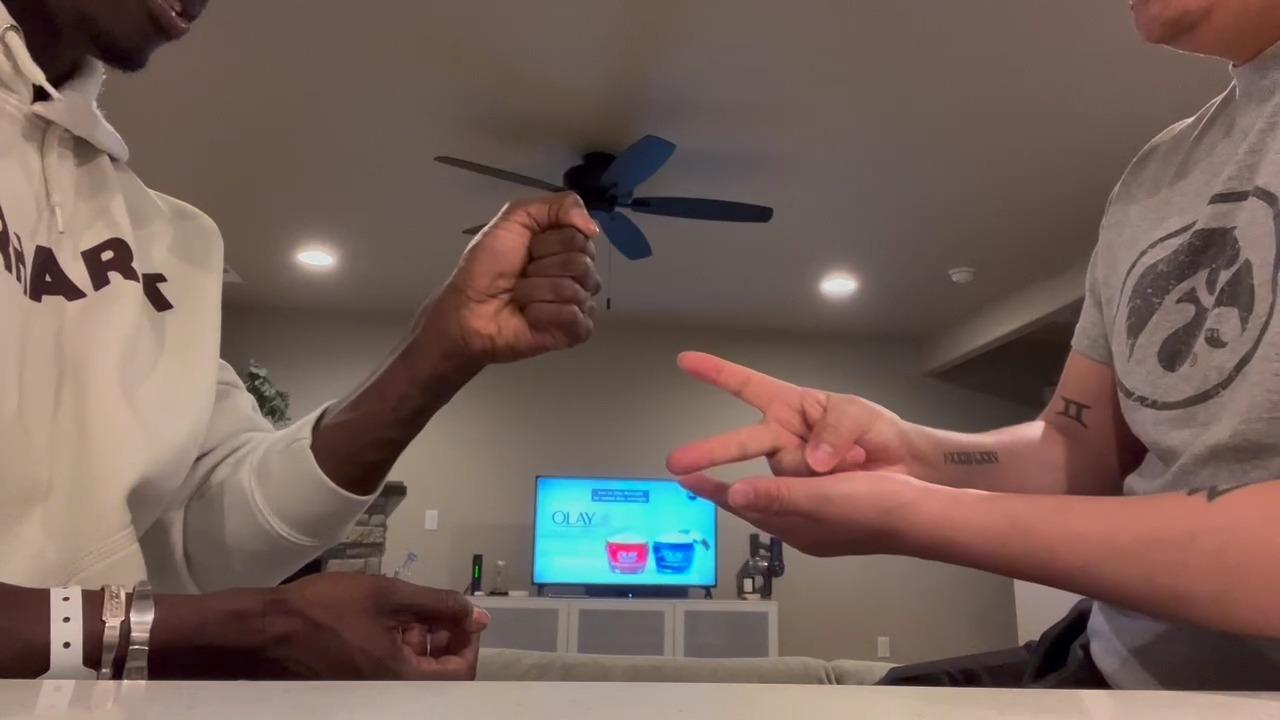Rock: (450, 187, 605, 363)
Scissors: (665, 352, 909, 489)
